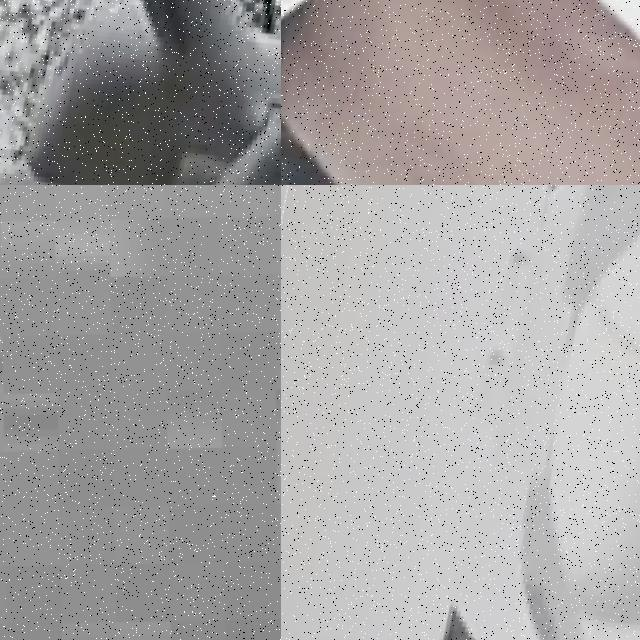drone: (281, 185, 640, 640), (281, 0, 640, 185), (0, 0, 281, 185)
